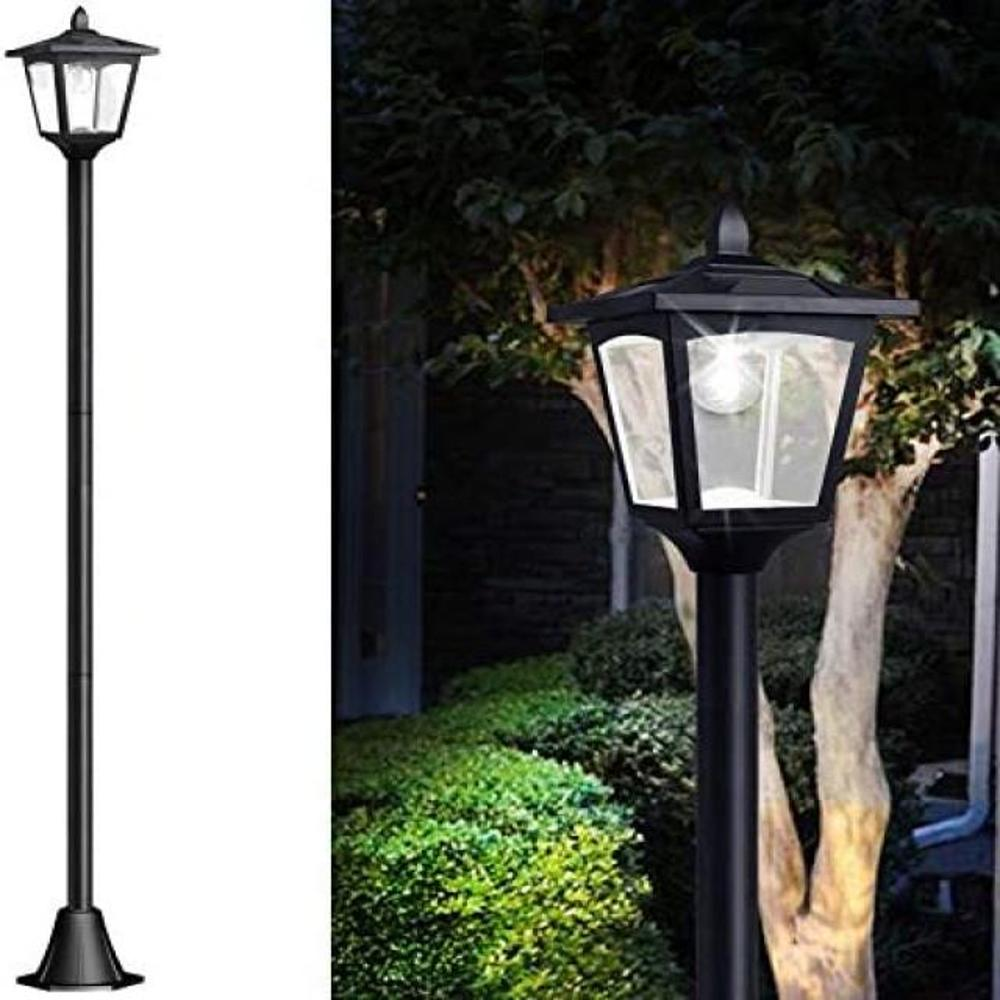shelf: (573, 198, 938, 1000), (4, 1, 184, 993)
